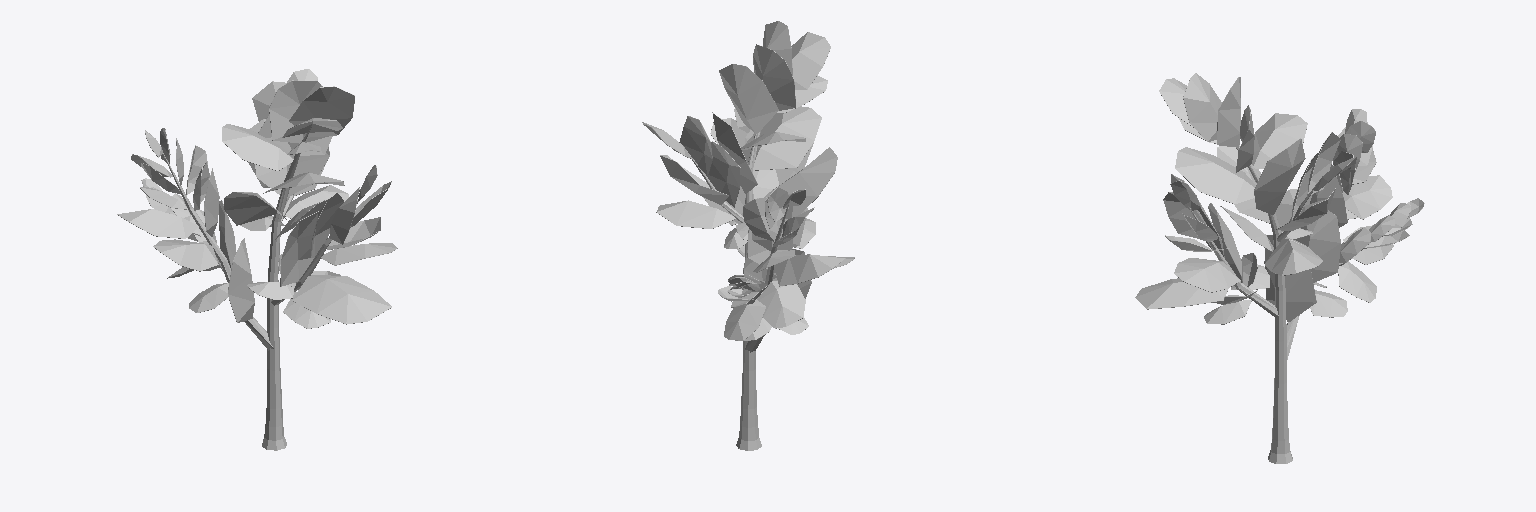
Rendered from TreeA.obj.
3 renders of one model, left to right at view 1: azimuth 30°, elevation 25°; view 2: azimuth 150°, elevation 25°; view 3: azimuth 270°, elevation 25°, orthographic.
Visible parts, largest first — view 1: Circle.005_Circle.020; view 2: Circle.005_Circle.020; view 3: Circle.005_Circle.020.
Boxes of the visible parts, <box> form: Circle.005_Circle.020: <box>117,69,397,450</box>; Circle.005_Circle.020: <box>642,21,854,450</box>; Circle.005_Circle.020: <box>1135,73,1424,463</box>.
Size of the model in its own units: 4.33 by 7.85 by 5.31.